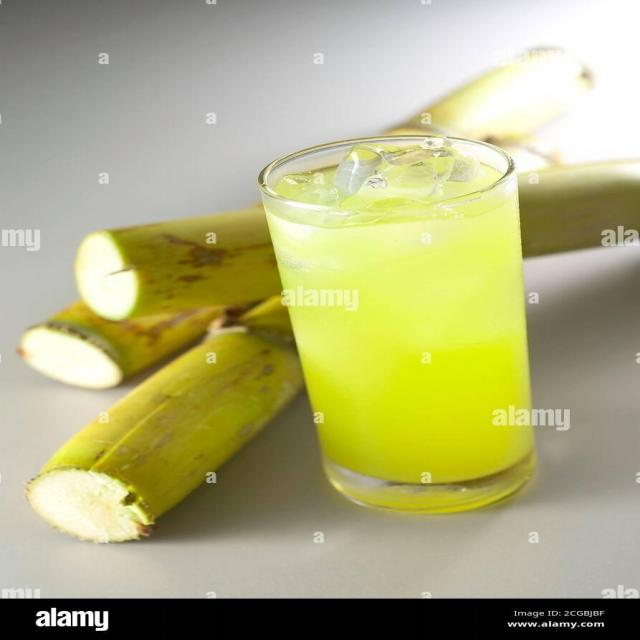glass-normal: (255, 134, 540, 516)
